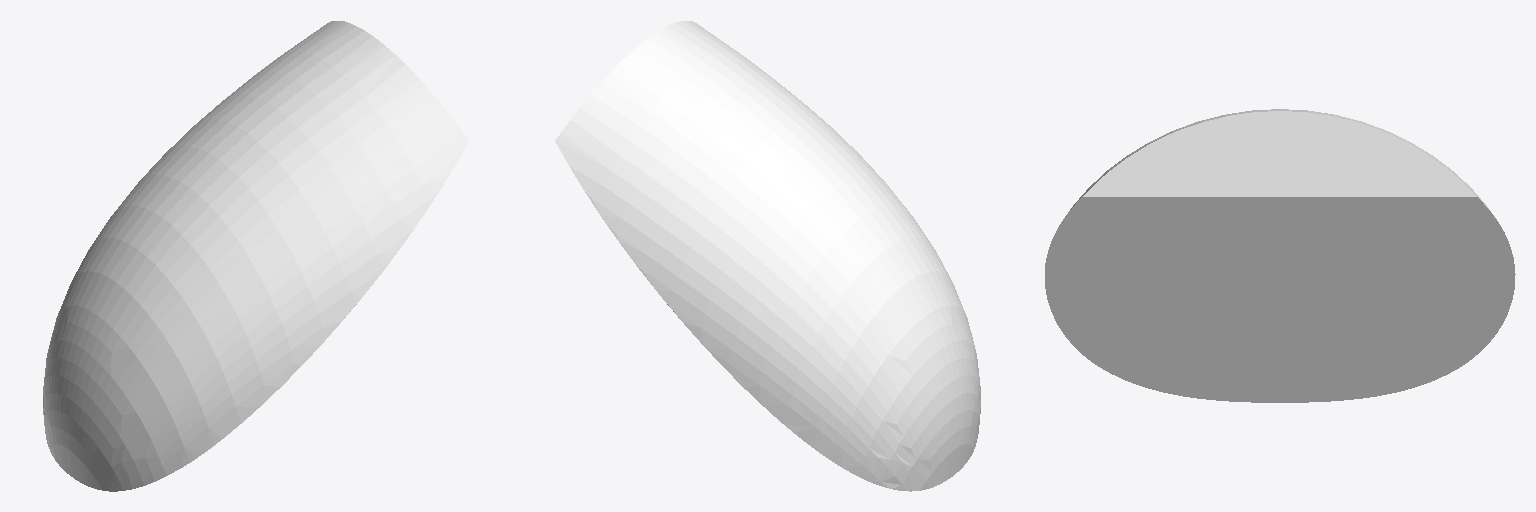
robot.urdf — fingerurdf:
<?xml version="1.0" encoding="utf-8"?>
<!-- This URDF was automatically created by SolidWorks to URDF Exporter! Originally created by [author] ([email redacted]) 
     Commit Version: 1.6.0-4-g7f85cfe  Build Version: 1.6.7995.38578
     For more information, please see http://wiki.ros.org/sw_urdf_exporter  -->
<robot
  name="fingerurdf">
  <link
    name="gelsight_finger">
    <inertial>
      <origin
        xyz="-0.00180776621722935 0.00177993937314142 0.00831417863297659"
        rpy="0 0 0" />
      <mass
        value="0.00284210961666773" />
      <inertia
        ixx="2.24366515366732E-06"
        ixy="-2.67298502840701E-06"
        ixz="-2.95697297159703E-06"
        iyy="8.69004783487463E-06"
        iyz="-1.06731855123785E-06"
        izz="8.52480650362248E-06" />
    </inertial>
    <visual>
      <origin
        xyz="0 0 0"
        rpy="0 0 0" />
      <geometry>
        <mesh
          filename="../../../../../../../assets/tacsl/mesh/fingertip/finger.STL" />
      </geometry>
      <material
        name="">
        <color
          rgba="0.792156862745098 0.819607843137255 0.933333333333333 1" />
      </material>
    </visual>
    <collision>
      <origin
        xyz="0 0 0"
        rpy="0 0 0" />
      <geometry>
        <mesh
          filename="../../../../../../../assets/tacsl/mesh/fingertip/finger.STL" />
      </geometry>
    </collision>
  </link>


  <link name="camera_link"/>

  <joint
    name="tactile_camera_joint"
    type="fixed">
    <origin
      xyz="-0.0036365 0 0.0067726"
      rpy="-0.00019517 -0.95481 0.0001593" />
    <parent
      link="gelsight_finger" />
    <child
      link="camera_link" />
    <axis
      xyz="0 0 0" />
  </joint>


  <link
    name="elastomer">
    <inertial>
      <origin
        xyz="0.0010264 5.1036E-07 -0.0033256"
        rpy="0 0 0" />
      <mass
        value="0.00092058" />
      <inertia
        ixx="1.1753E-08"
        ixy="-9.9846E-13"
        ixz="1.3367E-10"
        iyy="2.7055E-08"
        iyz="-3.0738E-12"
        izz="3.5968E-08" />
    </inertial>
    <visual>
      <origin
        xyz="0 0 0"
        rpy="0 0 0" />
      <geometry>
        <mesh
          filename="../../../../../../../assets/tacsl/mesh/fingertip/elastomer.STL" />
      </geometry>
      <material
        name="">
        <color
          rgba="1 1 1 1" />
      </material>
    </visual>
    <collision>
      <origin
        xyz="0 0 0"
        rpy="0 0 0" />
      <geometry>
        <mesh
          filename="../../../../../../../assets/tacsl/mesh/fingertip/elastomer.STL" />
      </geometry>
    </collision>
  </link>


  <joint
    name="elastomer_joint"
    type="fixed">
    <origin
      xyz="-0.016231 0 0.01529"
      rpy="-0.00010658 -0.37247 3.8784E-05" />
    <parent
      link="gelsight_finger" />
    <child
      link="elastomer" />
    <axis
      xyz="0 0 0" />
  </joint>


  <link name="elastomer_tip"/>

  <joint
    name="elastomer_tip_joint"
    type="fixed">
    <origin
      xyz="-0.01623 0 0.01529"
      rpy="-0.00010658 -0.37247 3.8784E-05" />
    <parent
      link="gelsight_finger" />
    <child
      link="elastomer_tip" />
    <axis
      xyz="0 0 0" />
  </joint>
</robot>

--- Facts derived from the render (not from the file) ---
Views: 3 orthographic renders of the robot side by side, from view 1: azimuth 30°, elevation 25°; view 2: azimuth 150°, elevation 25°; view 3: azimuth 270°, elevation 25°.
Robot: fingerurdf — 4 links, 3 joints (3 fixed); root link gelsight_finger; default pose: all joints at 0.
Links seen in each view (by area): view 1: elastomer; view 2: elastomer; view 3: elastomer.
Boxes of the visible links, x1,y1,x2,y2 form: elastomer: [43, 21, 468, 491]; elastomer: [555, 21, 980, 491]; elastomer: [1045, 109, 1515, 402].
Bounding box of the posed robot: 0.0162 × 0.0152 × 0.0174 m (x, y, z).
1 mesh visuals loaded from 2 distinct referenced files (1 binary STL); not drawn: 1 (reference not matched to a file when rendering).